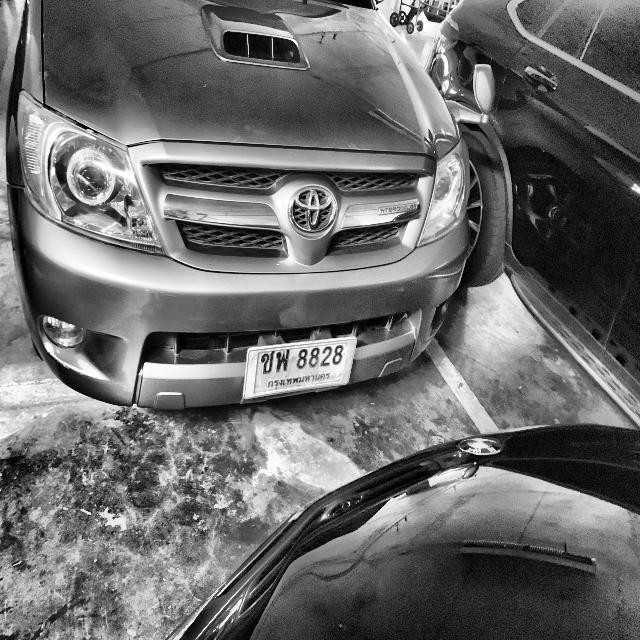license-plate: (243, 336, 358, 404)
